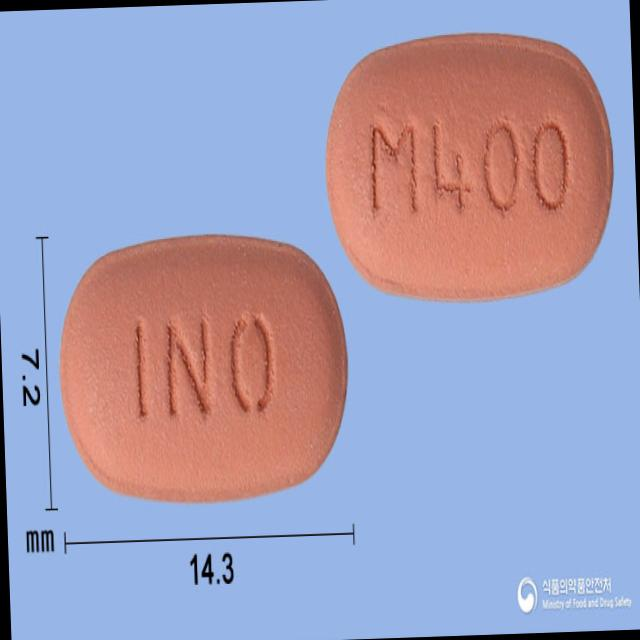Moveloxin: (56, 228, 352, 506), (320, 28, 620, 302)
